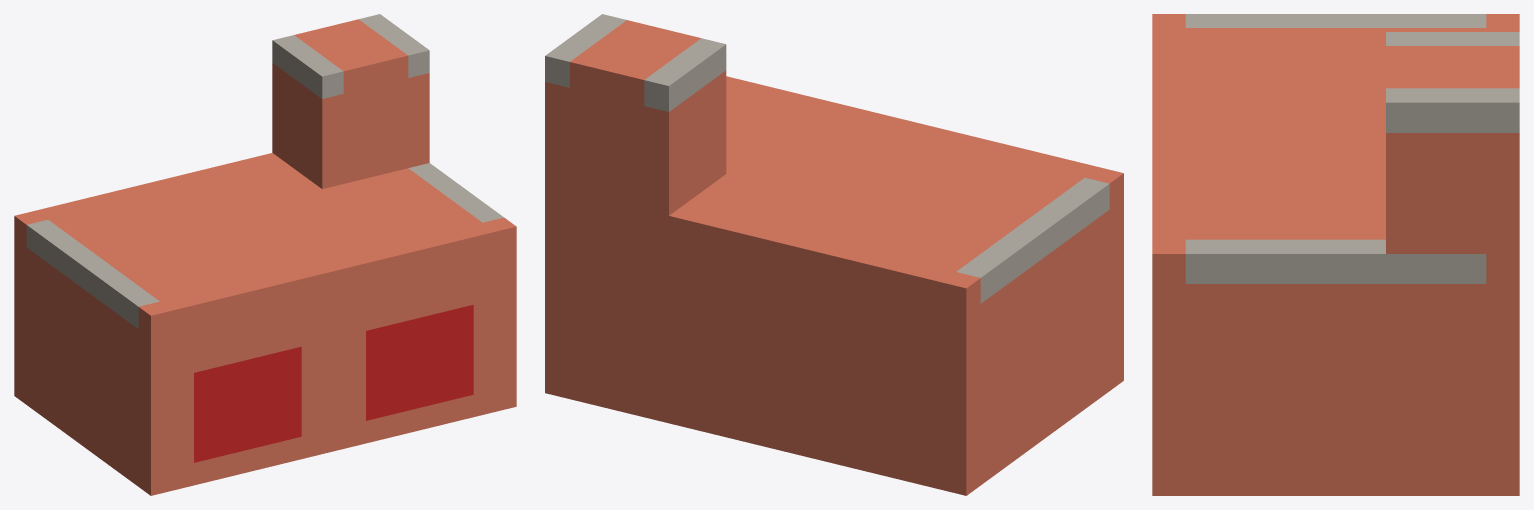
The model's file is fire_station.glb.
3 views of the same model, side by side, from view 1: azimuth 30°, elevation 25°; view 2: azimuth 150°, elevation 25°; view 3: azimuth 270°, elevation 25° (orthographic). The views are drawn at different scales.
Parts seen in each view (by area): view 1: fire_station_brick, fire_station_fire_red, fire_station_roof_flat; view 2: fire_station_brick, fire_station_roof_flat; view 3: fire_station_brick, fire_station_roof_flat.
Boxes of the visible parts, box(x1,y1,x2,y2) form: fire_station_brick: box(14, 19, 516, 495); fire_station_fire_red: box(194, 304, 473, 462); fire_station_roof_flat: box(26, 14, 503, 328); fire_station_brick: box(545, 20, 1123, 495); fire_station_roof_flat: box(545, 14, 1109, 303); fire_station_brick: box(1152, 14, 1519, 495); fire_station_roof_flat: box(1185, 14, 1519, 283).
Bounding box in the file's own units: 19.94 × 15.25 × 12.9.
